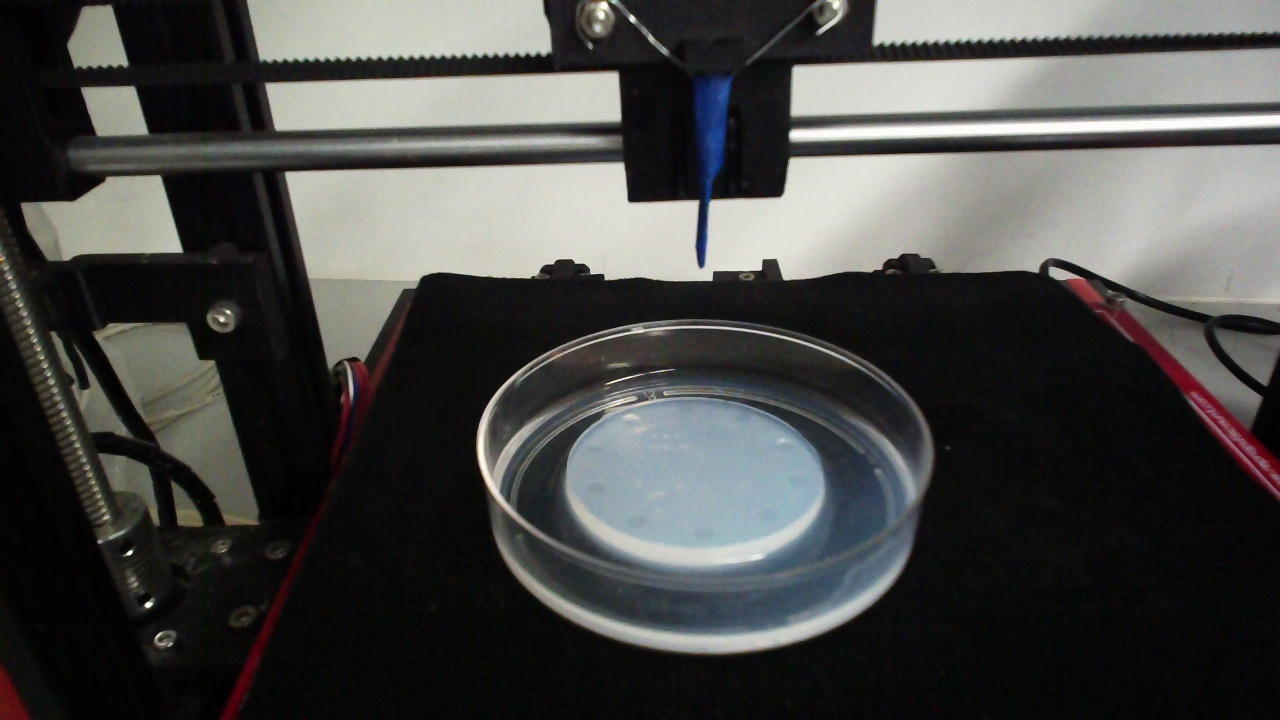groove: (755, 507, 780, 525), (624, 513, 648, 530), (774, 436, 798, 453), (692, 525, 715, 542), (787, 472, 810, 488), (582, 481, 604, 497), (730, 409, 753, 424), (621, 413, 641, 428), (676, 401, 695, 416), (583, 440, 604, 453)
needle: (694, 74, 730, 268)
